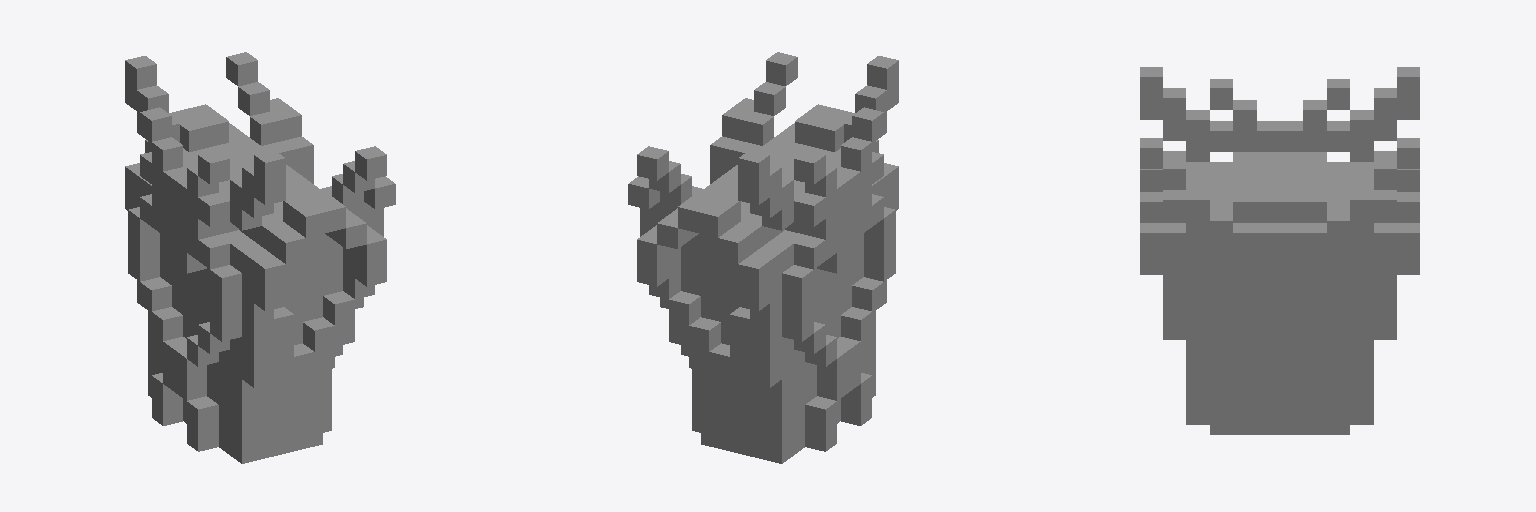
File: potato_body.obj
The picture shows the model from 3 angles: view 1: azimuth 30°, elevation 25°; view 2: azimuth 150°, elevation 25°; view 3: azimuth 270°, elevation 25°; orthographic projection.
Visible parts, largest first — view 1: potato_body; view 2: potato_body; view 3: potato_body.
Boxes of the visible parts, x1,y1,x2,y2 form: potato_body: [125, 52, 395, 463]; potato_body: [628, 52, 898, 463]; potato_body: [1140, 67, 1419, 434].
Size of the model in its own units: 8 by 15 by 12.